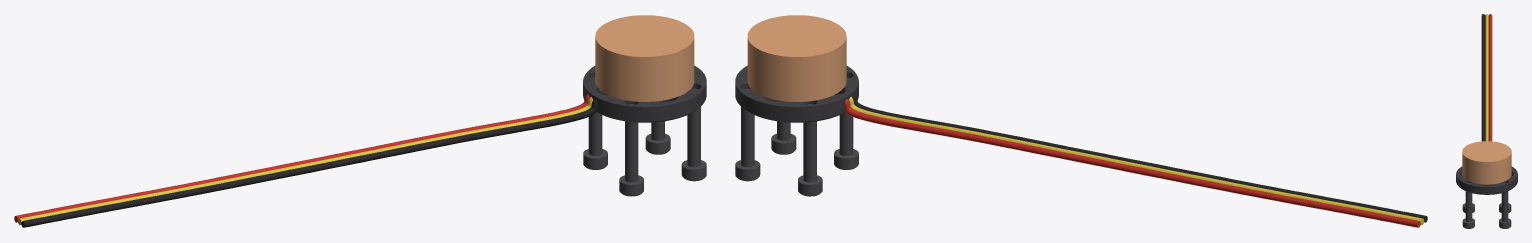
The model's file is motor.glb.
3 renders of one model, left to right at view 1: azimuth 30°, elevation 25°; view 2: azimuth 150°, elevation 25°; view 3: azimuth 270°, elevation 25°, orthographic. The views are drawn at different scales.
Parts seen in each view (by area): view 1: motor; view 2: motor; view 3: motor.
Boxes of the visible parts, x1,y1,x2,y2 form: motor: [14, 15, 706, 227]; motor: [735, 15, 1427, 227]; motor: [1456, 14, 1517, 228].
Bounding box in the file's own units: 174 × 33.01 × 27.41.
